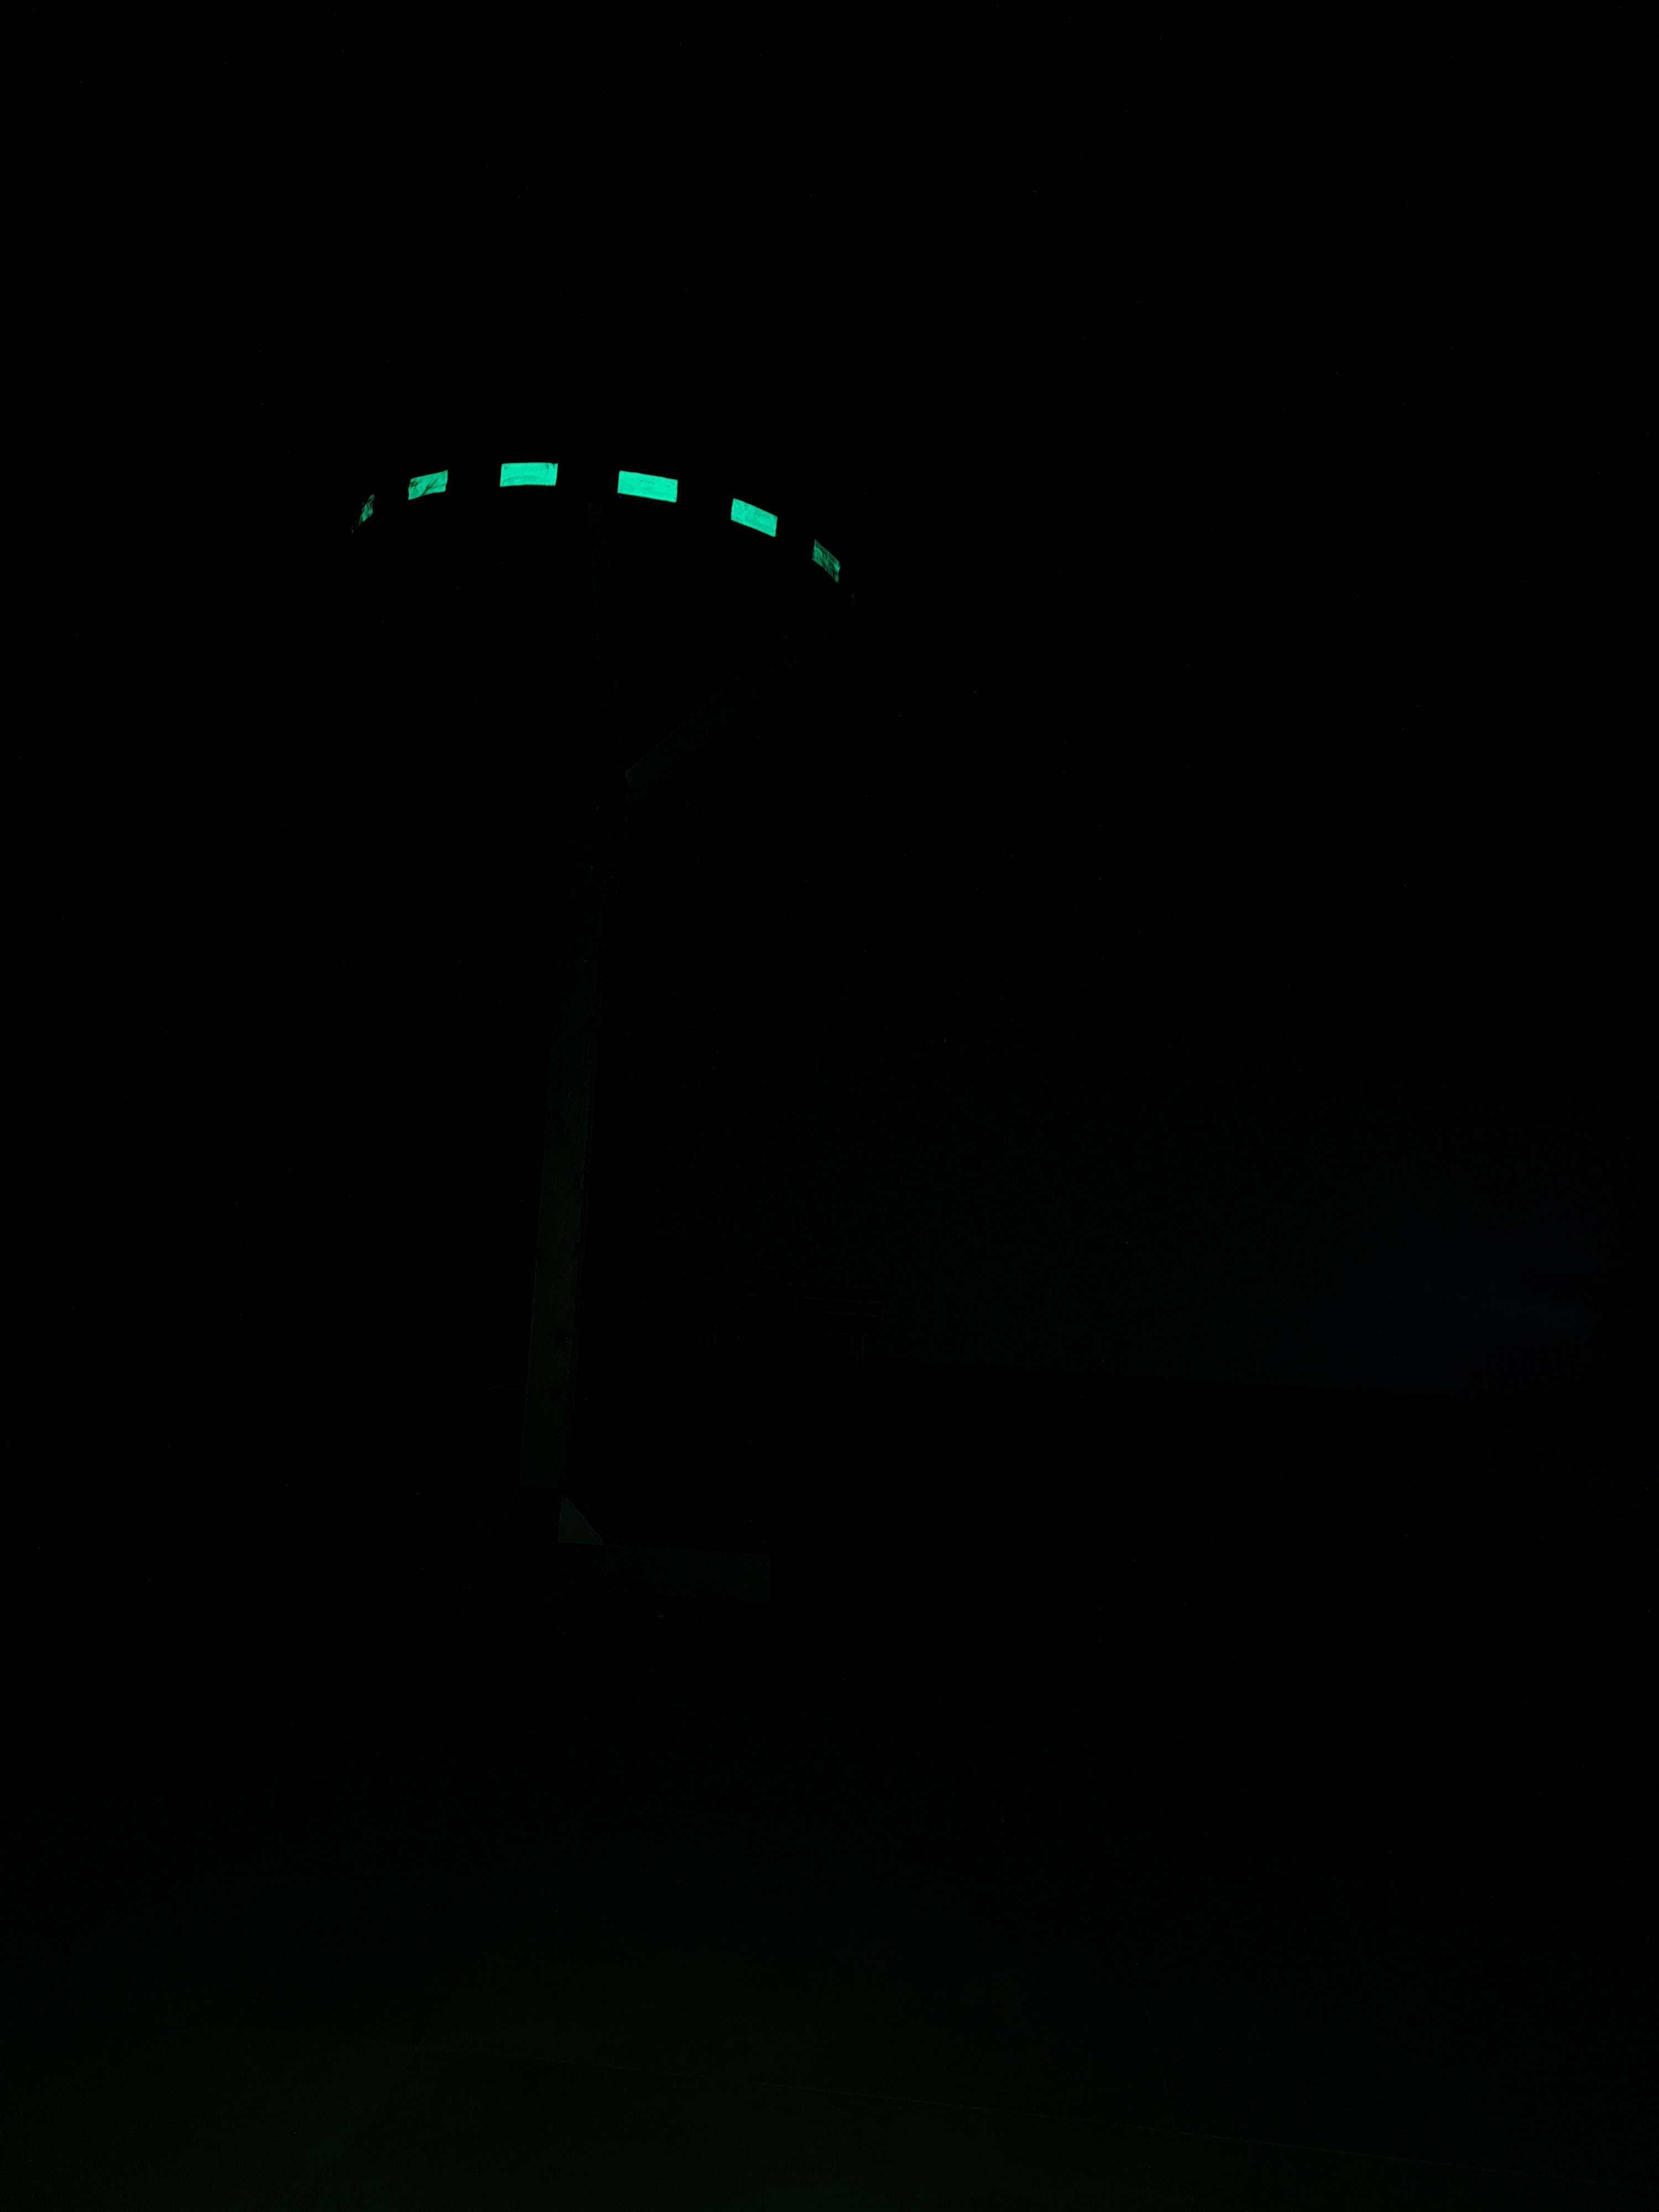hoop: (347, 453, 847, 589)
